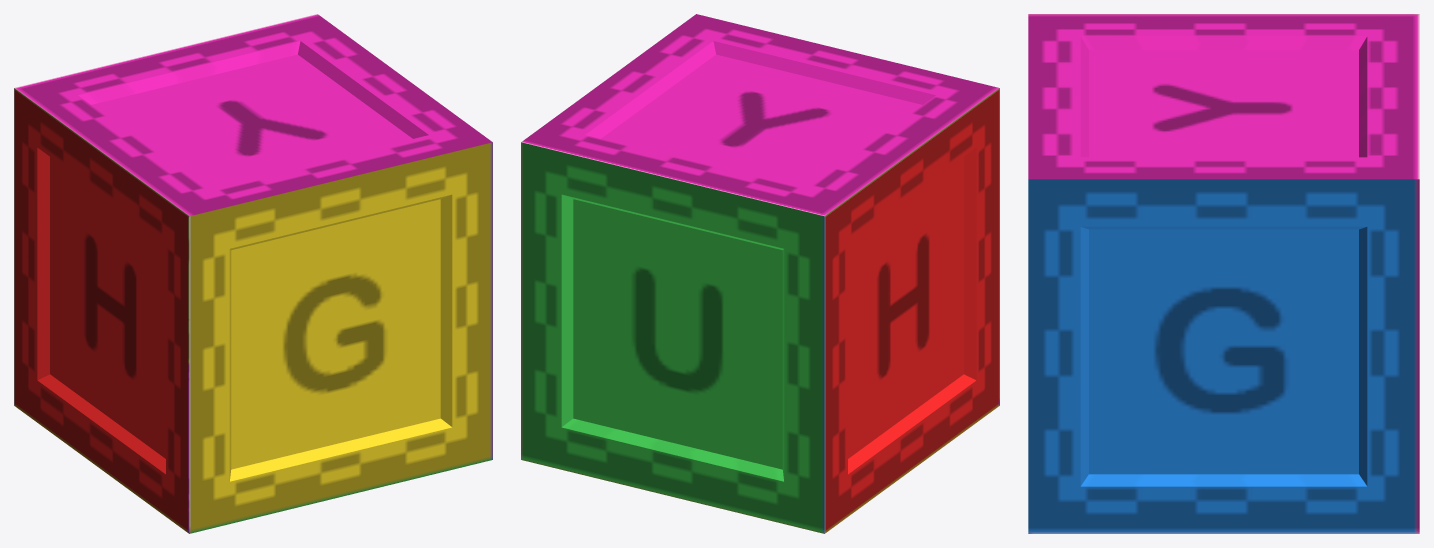
Rendered from block_big.fbx.
3 renders of one model, left to right at view 1: azimuth 30°, elevation 25°; view 2: azimuth 150°, elevation 25°; view 3: azimuth 270°, elevation 25°, orthographic. The views are drawn at different scales.
Parts seen in each view (by area): view 1: box; view 2: box; view 3: box.
Boxes of the visible parts, x1,y1,x2,y2 form: box: (14, 14, 492, 533); box: (521, 14, 999, 533); box: (1028, 14, 1419, 533).
Size of the model in its own units: 6 by 6 by 6.
Materials: 1 (1 with a texture image).
